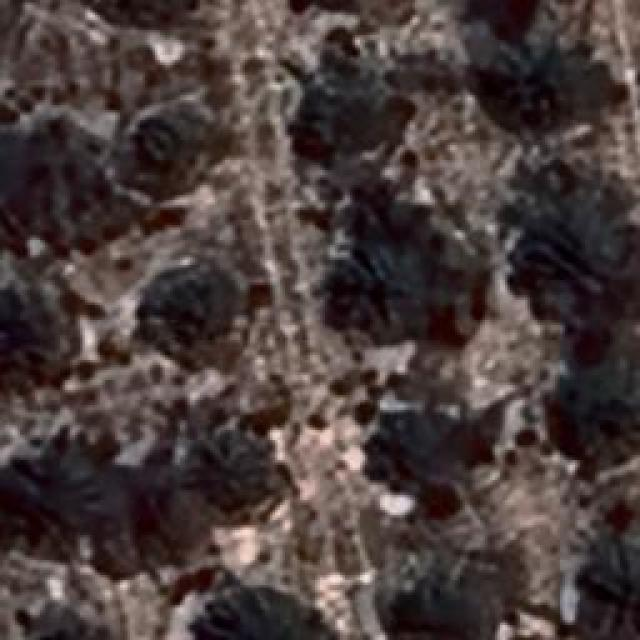PalmTree: (67, 93, 108, 623), (54, 33, 92, 500), (345, 211, 460, 321), (5, 129, 113, 239), (511, 188, 614, 300), (371, 570, 499, 640), (391, 397, 474, 495), (480, 35, 580, 115), (301, 72, 389, 158), (155, 271, 235, 361), (580, 542, 640, 640), (208, 436, 280, 516), (0, 290, 70, 370), (562, 362, 628, 446), (132, 111, 200, 184), (207, 600, 315, 640), (0, 124, 19, 222), (20, 621, 114, 640)
